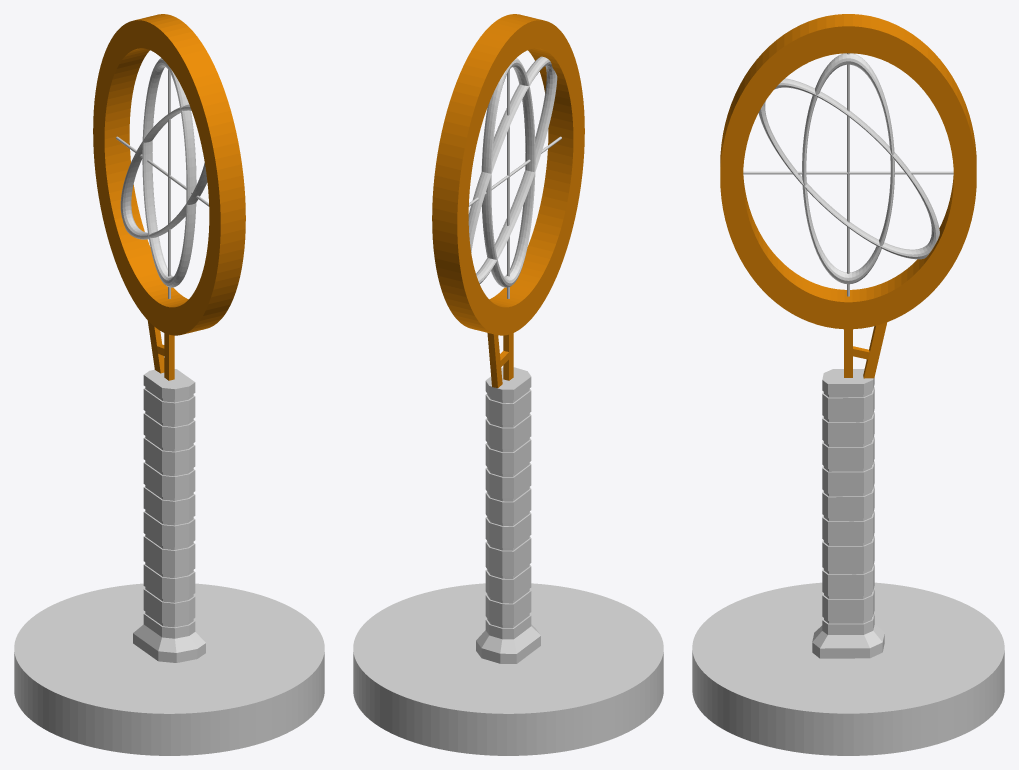
File: swatterchess.glb
The picture shows the model from 3 angles, left to right: view 1: azimuth 30°, elevation 25°; view 2: azimuth 150°, elevation 25°; view 3: azimuth 270°, elevation 25°; orthographic projection.
Visible parts, largest first — view 1: Cylinder.003, Circle, Cylinder.002, Torus, Torus.001, Cylinder; view 2: Cylinder.003, Circle, Cylinder.002, Torus, Torus.001, Cylinder; view 3: Cylinder.003, Circle, Cylinder.002, Torus, Torus.001, Cylinder.001, Cylinder.
Boxes of the visible parts, x1,y1,x2,y2 form: Cylinder.003: (14, 583, 324, 755); Circle: (93, 14, 245, 380); Cylinder.002: (133, 369, 205, 662); Torus: (142, 58, 196, 287); Torus.001: (120, 104, 207, 239); Cylinder: (168, 70, 170, 298); Cylinder.003: (353, 583, 663, 755); Circle: (432, 14, 584, 387); Cylinder.002: (476, 367, 540, 663); Torus: (481, 58, 535, 287); Torus.001: (468, 56, 557, 283); Cylinder: (507, 70, 509, 298); Cylinder.003: (692, 582, 1004, 755); Circle: (720, 14, 976, 378); Cylinder.002: (812, 369, 884, 658); Torus: (802, 53, 894, 284); Torus.001: (758, 78, 939, 259); Cylinder.001: (743, 171, 953, 174); Cylinder: (847, 53, 849, 296).
Size of the model in its own units: 2.14 by 5.06 by 2.14.
